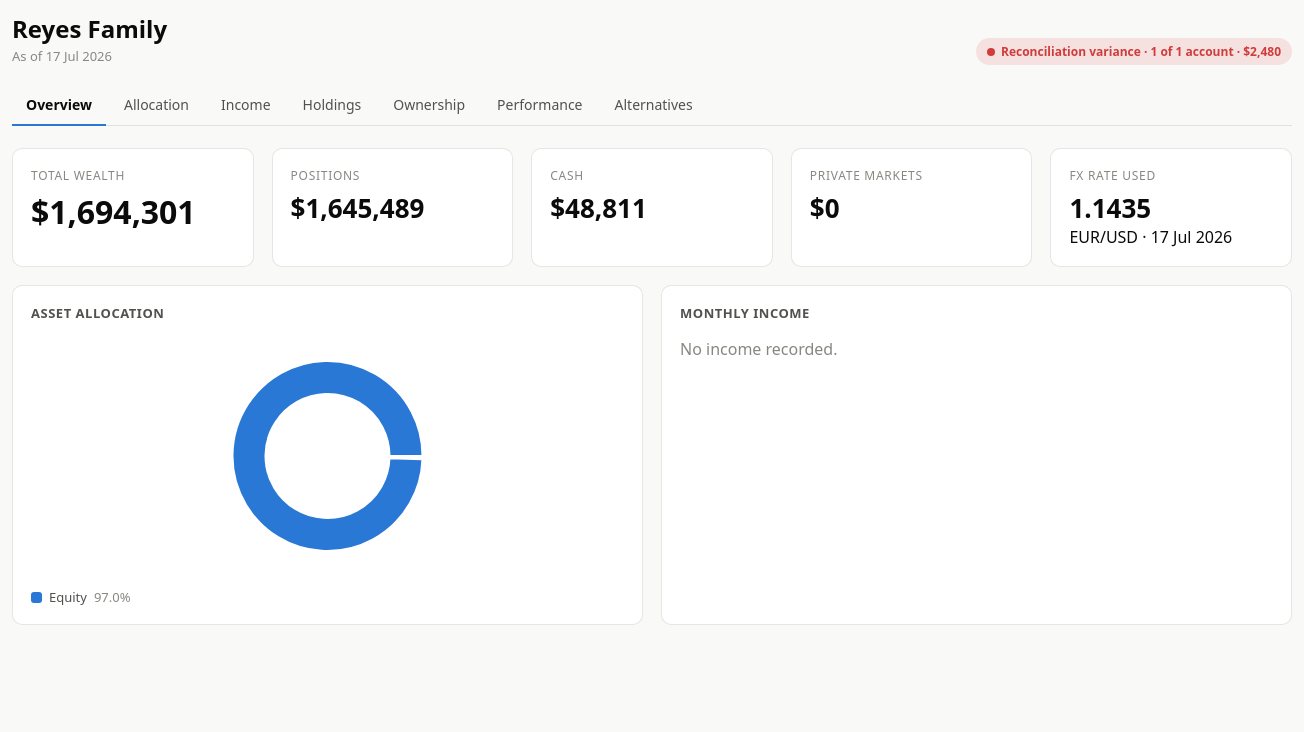
Scenario: ClientDashboard › clicking the reconcile badge reveals which account and how much
Expected: the text "ACC-SHARED" is not shown
Step 1. Click the button "Reconciliation variance · 1 of 1 account · $2,480" → (1134, 52), box [976,38,1292,65]
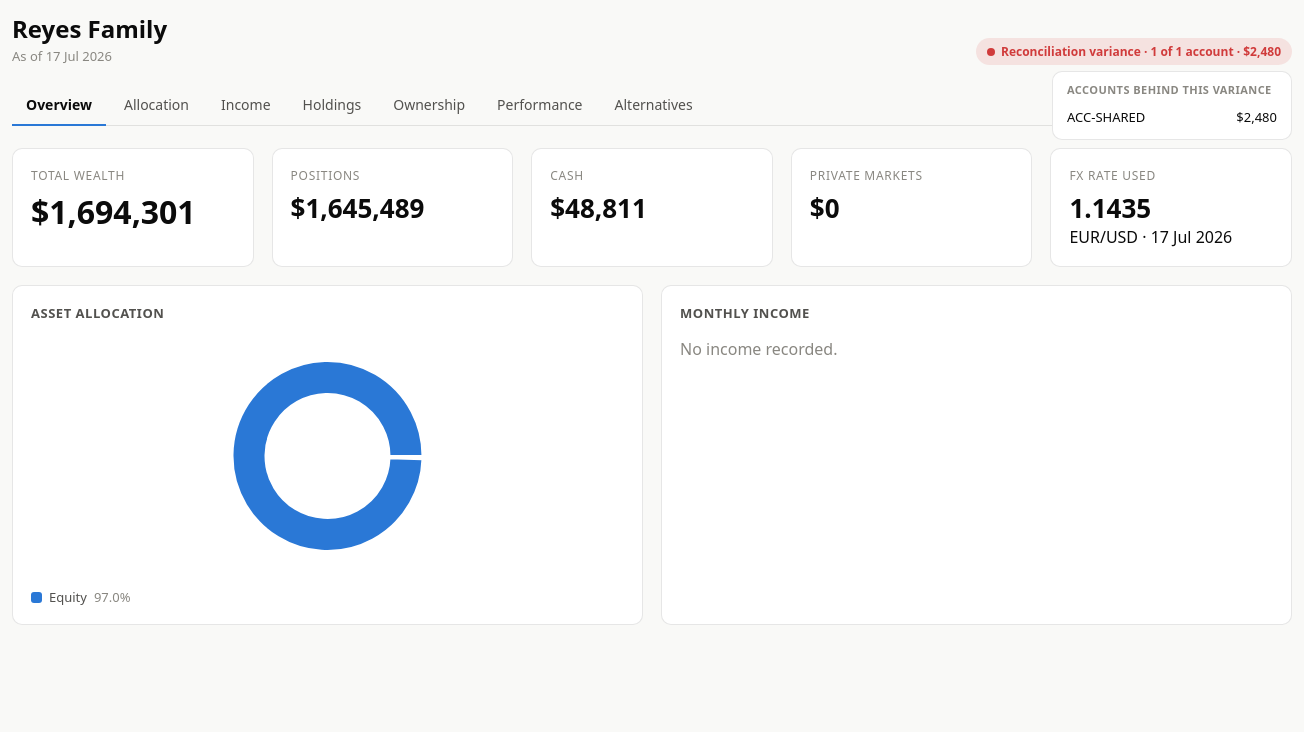
Result: the text "ACC-SHARED" shows "$2,480" at [1236,108,1277,126]
